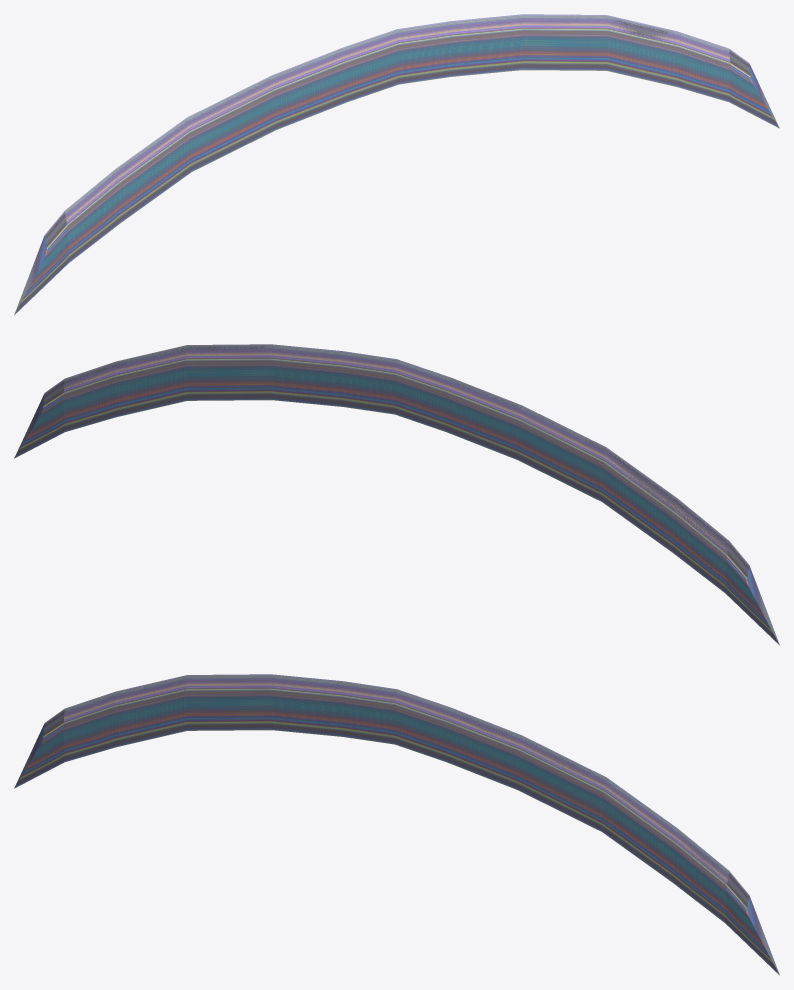
File: GreatSwordProjectile.fbx
3 renders of one model, top to bottom at view 1: azimuth 30°, elevation 25°; view 2: azimuth 150°, elevation 25°; view 3: azimuth 330°, elevation 25°, orthographic.
Visible parts, largest first — view 1: Cube; view 2: Cube; view 3: Cube.
Boxes of the visible parts, x1,y1,x2,y2 form: Cube: (14, 14, 779, 315); Cube: (14, 344, 779, 645); Cube: (14, 674, 779, 975).
Size of the model in its own units: 255 by 61.45 by 2.63.
